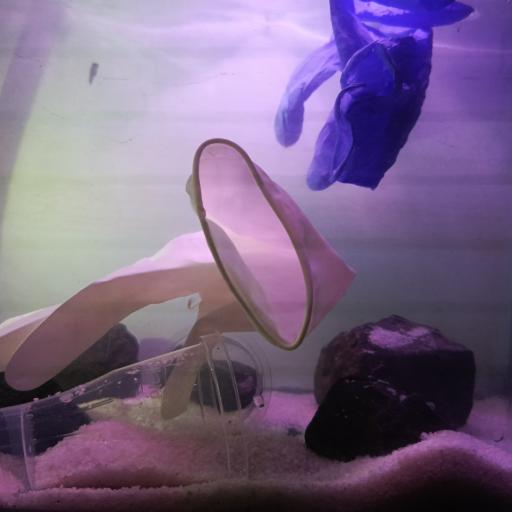glove: (0, 136, 357, 424), (272, 0, 474, 190)
plastic_cup: (0, 331, 253, 491), (156, 324, 272, 422)
